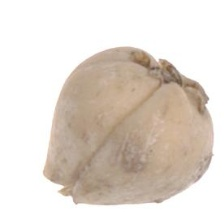L1: (142, 50, 201, 98), (41, 166, 81, 205)
L2: (41, 46, 215, 206)
